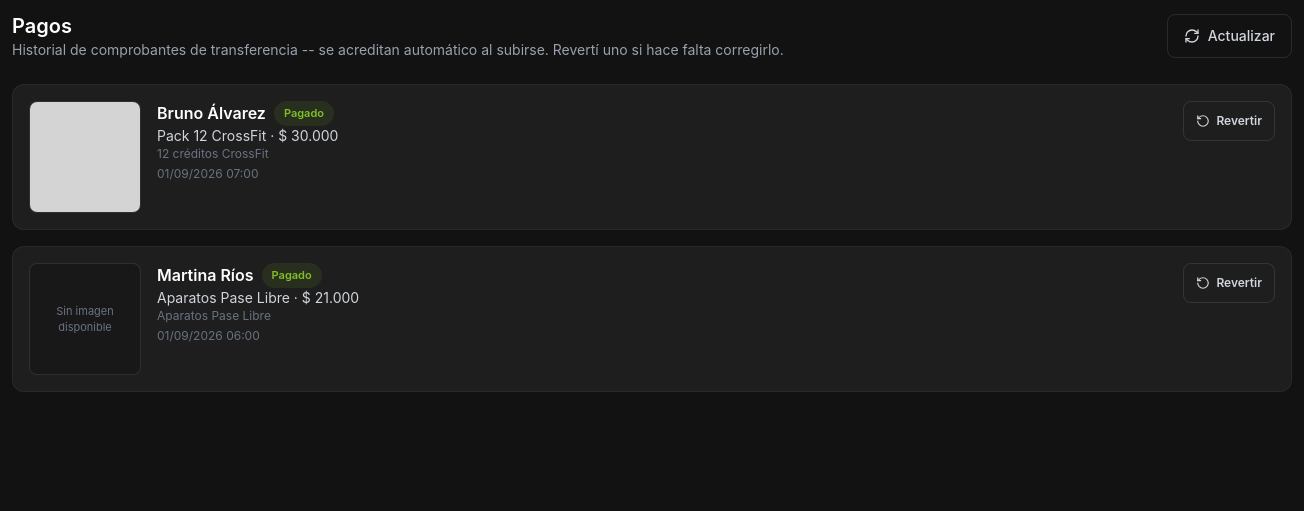
Test: Pagos (Fase 3 -- historial de comprobantes, acreditación automática + reversión) › Revertir con un solo aviso (lo del pago ya estaba vencido): también va al banner, no al toast
The image size is (1304, 511).
Check: the text "Martina Ríos" is shown, box [157, 263, 254, 287]
Step 1. Click the button "Revertir" in the row of "Martina Ríos" → (1229, 283), box [1183, 263, 1275, 303]
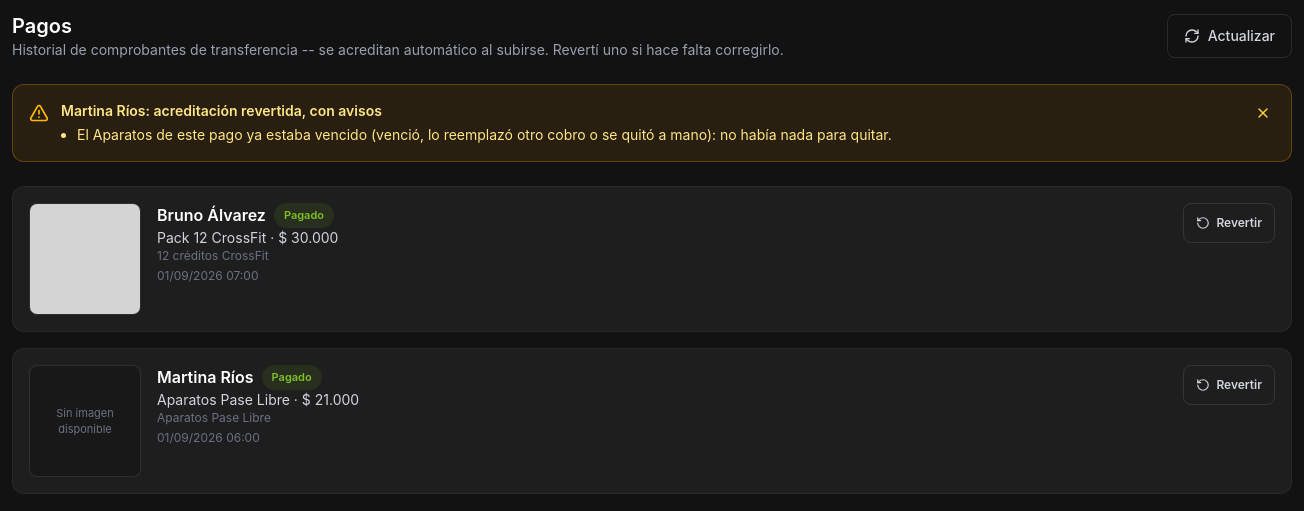
Check: the message shows "ya estaba vencido", box [77, 126, 892, 143]
